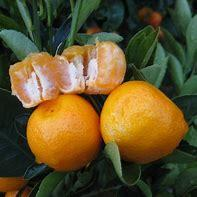orange: (13, 29, 142, 96), (96, 85, 181, 158), (25, 102, 106, 162)
